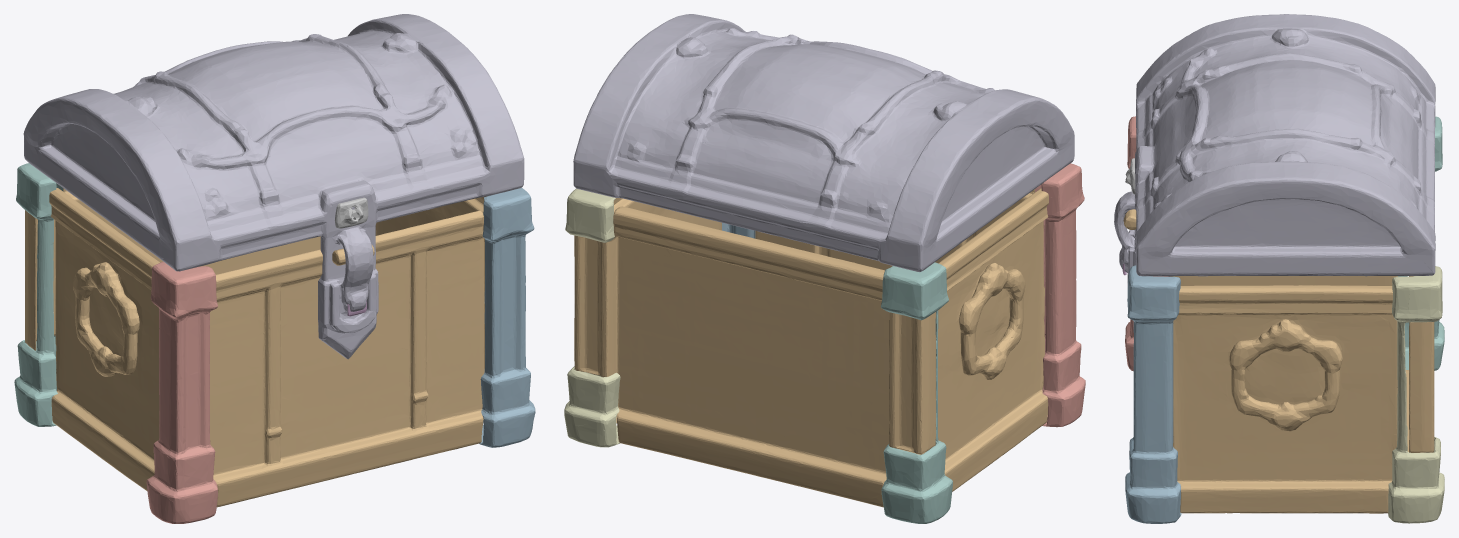
The model's file is chest.glb.
The picture shows the model from 3 angles, left to right: view 1: azimuth 30°, elevation 25°; view 2: azimuth 150°, elevation 25°; view 3: azimuth 270°, elevation 25°; orthographic projection. The views are drawn at different scales.
Visible parts, largest first — view 1: chest_1.obj_2, chest_1.obj_5, chest_1.obj_3, chest_1.obj_4, chest_1.obj, chest_1.obj_8; view 2: chest_1.obj_5, chest_1.obj_2, chest_1.obj_3, chest_1.obj, chest_1.obj_1; view 3: chest_1.obj_2, chest_1.obj_5, chest_1.obj_4, chest_1.obj_1, chest_1.obj, chest_1.obj_3.
Boxes of the visible parts, x1=… form: chest_1.obj_2: x1=23, y1=14, x2=524, y2=359; chest_1.obj_5: x1=25, y1=188, x2=486, y2=507; chest_1.obj_3: x1=146, y1=261, x2=217, y2=523; chest_1.obj_4: x1=479, y1=187, x2=535, y2=447; chest_1.obj: x1=14, y1=163, x2=63, y2=426; chest_1.obj_8: x1=335, y1=197, x2=368, y2=228; chest_1.obj_5: x1=574, y1=188, x2=1048, y2=507; chest_1.obj_2: x1=573, y1=14, x2=1074, y2=272; chest_1.obj_3: x1=1035, y1=163, x2=1085, y2=427; chest_1.obj: x1=881, y1=262, x2=952, y2=523; chest_1.obj_1: x1=564, y1=188, x2=620, y2=447; chest_1.obj_2: x1=1114, y1=14, x2=1435, y2=286; chest_1.obj_5: x1=1123, y1=209, x2=1434, y2=513; chest_1.obj_4: x1=1125, y1=265, x2=1181, y2=523; chest_1.obj_1: x1=1388, y1=266, x2=1444, y2=523; chest_1.obj: x1=1398, y1=116, x2=1444, y2=370; chest_1.obj_3: x1=1125, y1=116, x2=1171, y2=371.
Bounding box in the file's own units: 1.85 × 1.71 × 1.46.
